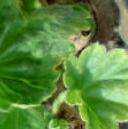Tomato leaf mosaic virus: (0, 0, 98, 110), (57, 44, 128, 129)
